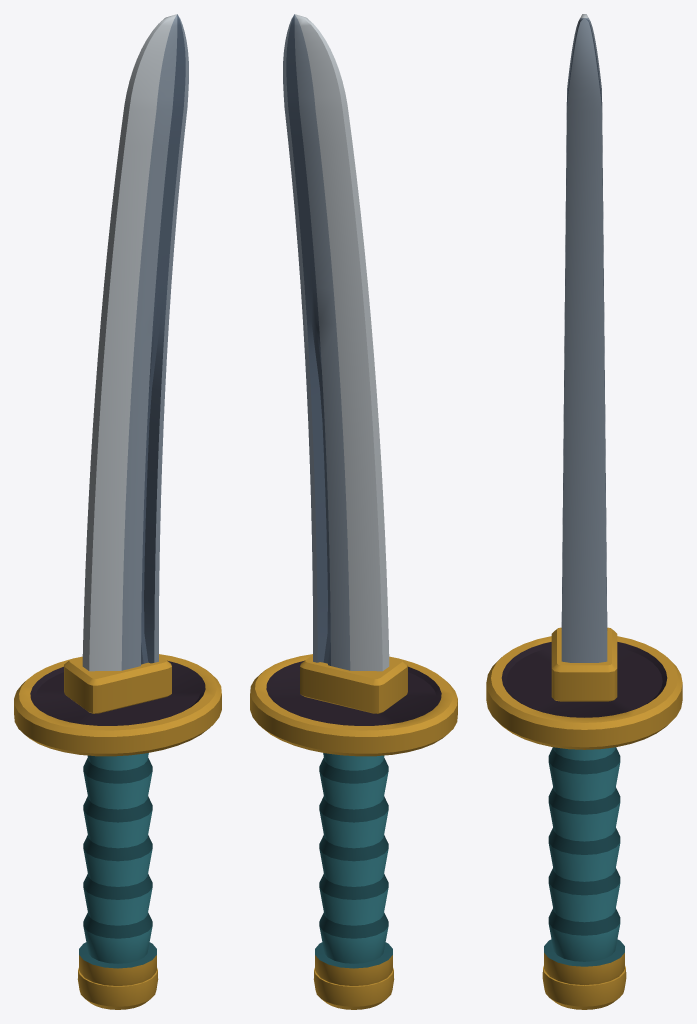
Rendered from Katana_11.glb.
The picture shows the model from 3 angles, left to right: view 1: azimuth 30°, elevation 25°; view 2: azimuth 150°, elevation 25°; view 3: azimuth 270°, elevation 25°; orthographic projection. The views are drawn at different scales.
Visible parts, largest first — view 1: Katana_11; view 2: Katana_11; view 3: Katana_11.
Part boxes in pixels (left/top/right/bottom): Katana_11: left=14, top=14, right=221, bottom=1009; Katana_11: left=250, top=14, right=457, bottom=1009; Katana_11: left=486, top=14, right=682, bottom=1009.
Size of the model in its own units: 1.28 by 6.38 by 1.12.
